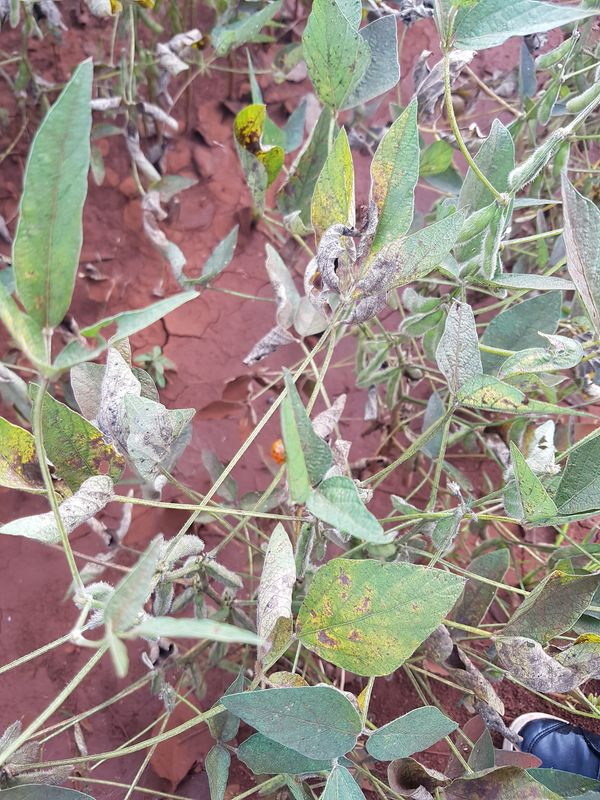Coccinellidae: (264, 436, 293, 468)
